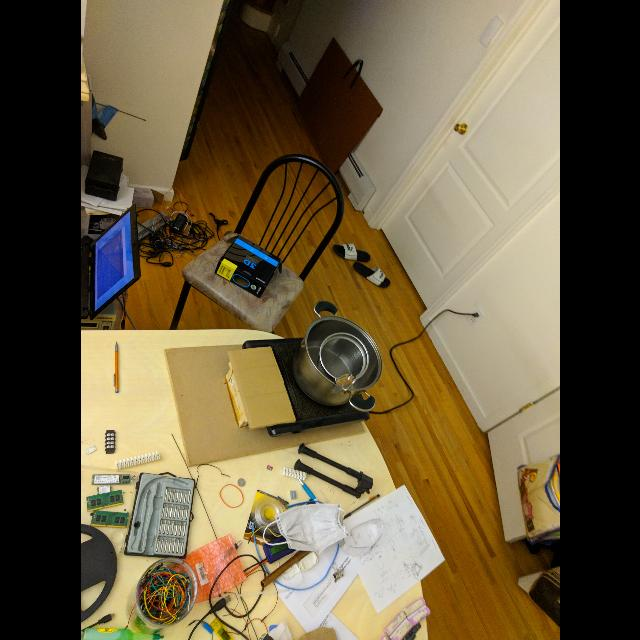Handle: (330, 372, 354, 392)
Strainer: (322, 328, 366, 382)
